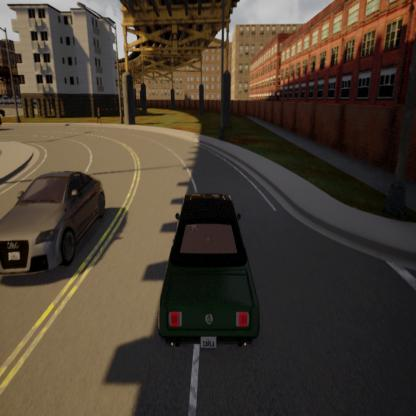Cars: (158, 194, 258, 347), (0, 170, 105, 273)
Pedestrian: (96, 107, 102, 122)
